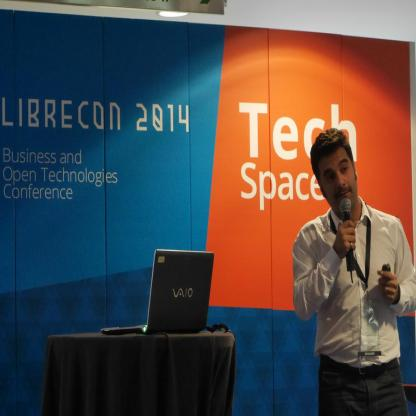board: (96, 248, 214, 335)
